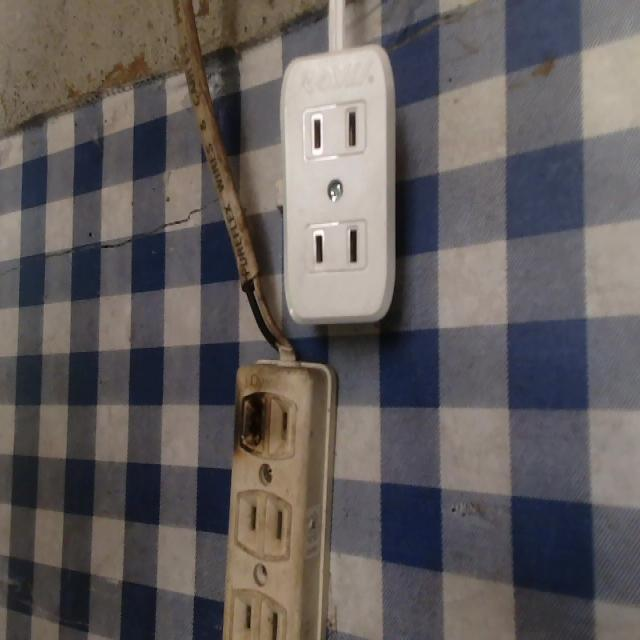-: (237, 385, 272, 464)
